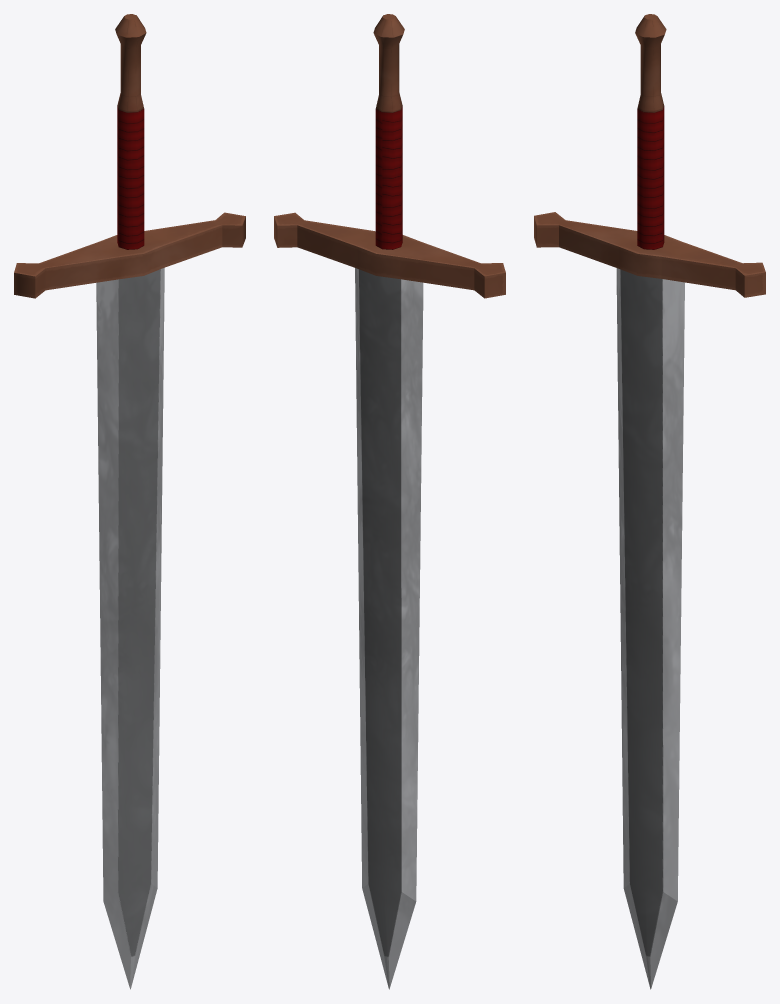
File: espada.fbx
3 renders of one model, left to right at view 1: azimuth 30°, elevation 25°; view 2: azimuth 150°, elevation 25°; view 3: azimuth 330°, elevation 25°, orthographic.
Visible parts, largest first — view 1: Box006, Cylinder002; view 2: Box006, Cylinder002; view 3: Box006, Cylinder002.
Boxes of the visible parts, x1,y1,x2,y2 form: Box006: (96, 268, 164, 989); Cylinder002: (14, 14, 245, 298); Box006: (355, 268, 423, 989); Cylinder002: (274, 14, 505, 298); Box006: (616, 268, 684, 989); Cylinder002: (534, 14, 765, 297).
Bounding box in the file's own units: 24.23 × 97.13 × 4.75.
